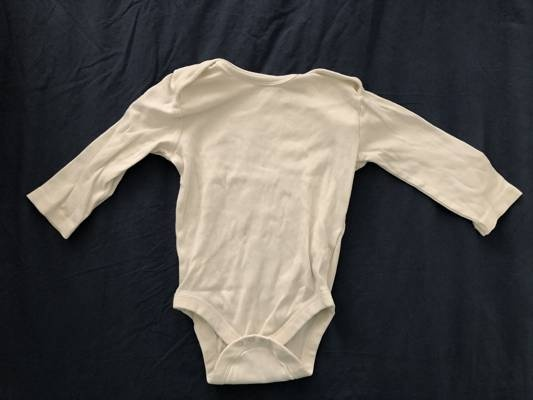Body: (30, 32, 527, 395)
